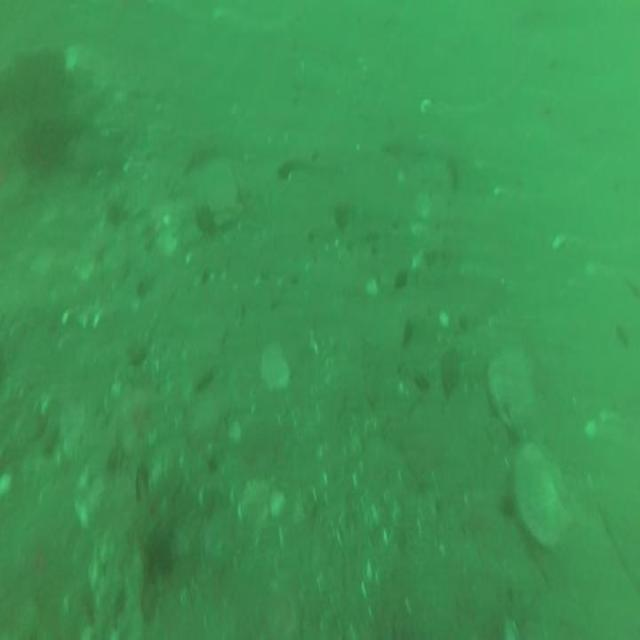scallop: (513, 446, 565, 550)
